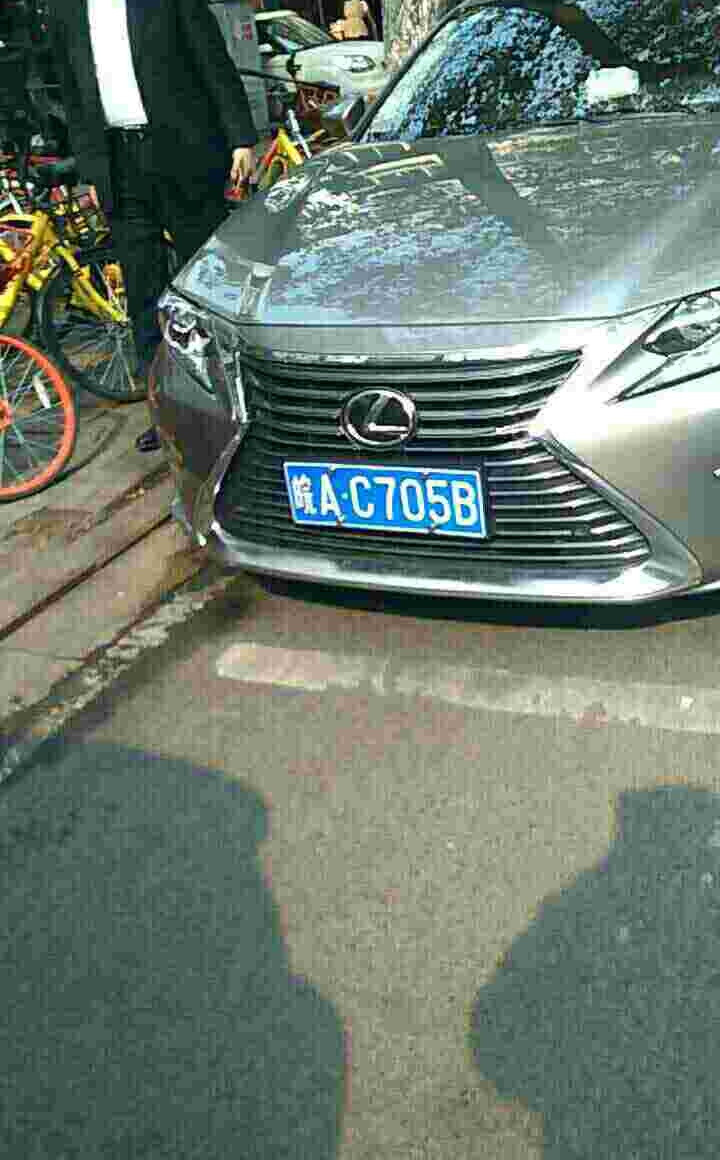license_plate: (286, 463, 480, 538)
